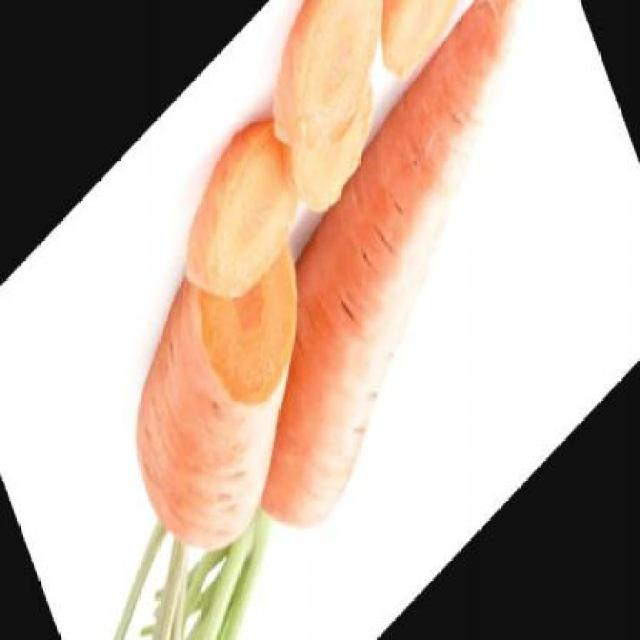carrot: (184, 0, 630, 568), (98, 182, 354, 595)
